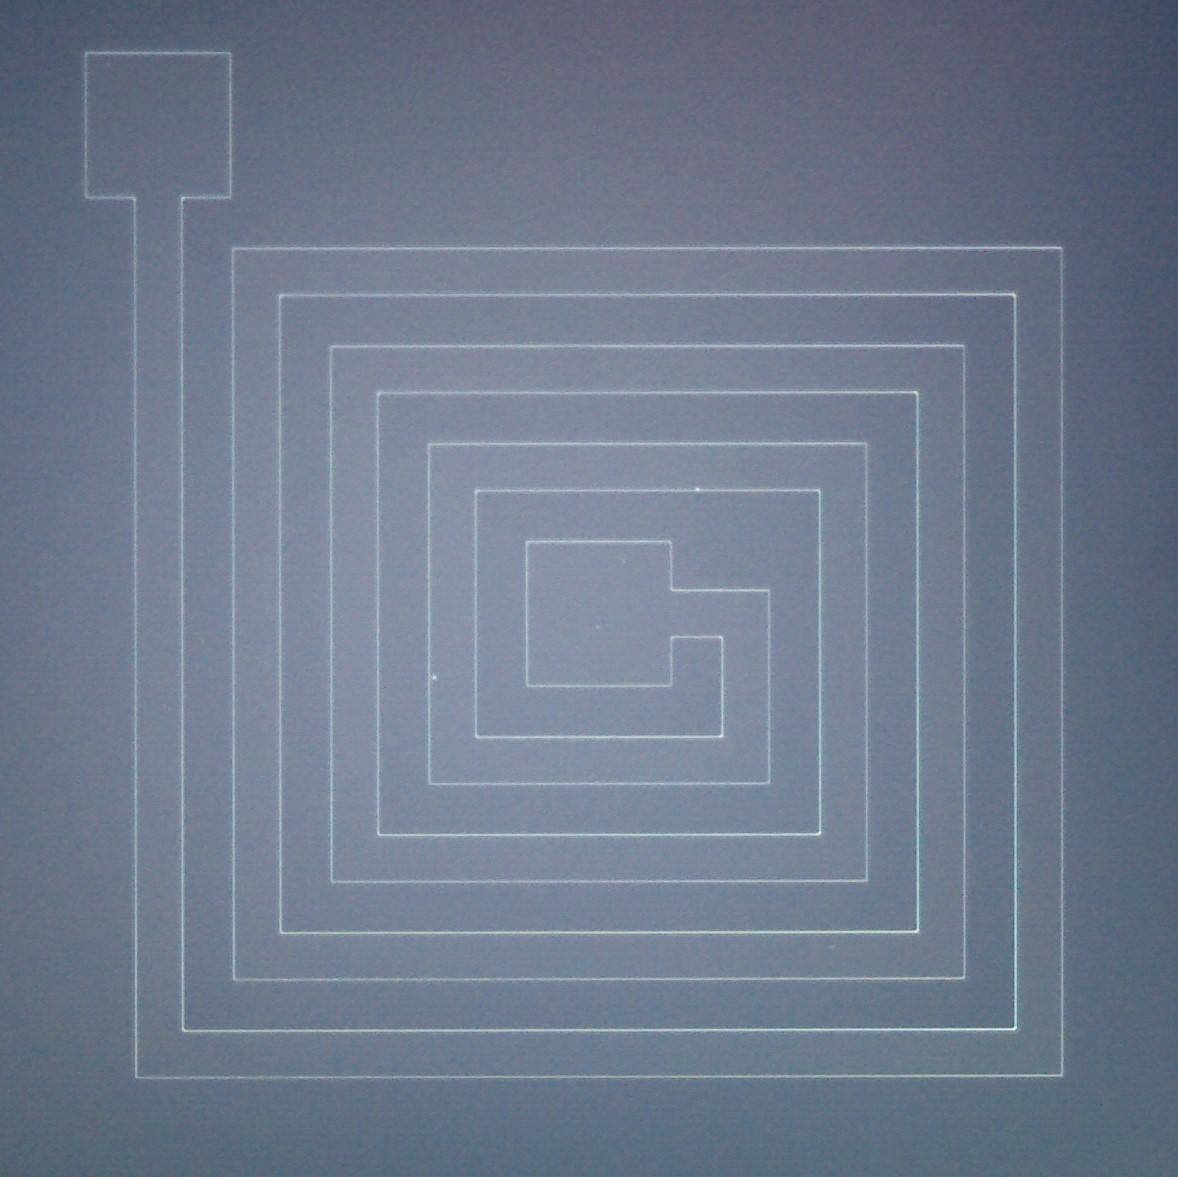s_point: (614, 555, 630, 569), (592, 620, 605, 635), (428, 671, 440, 682), (692, 485, 703, 494)
